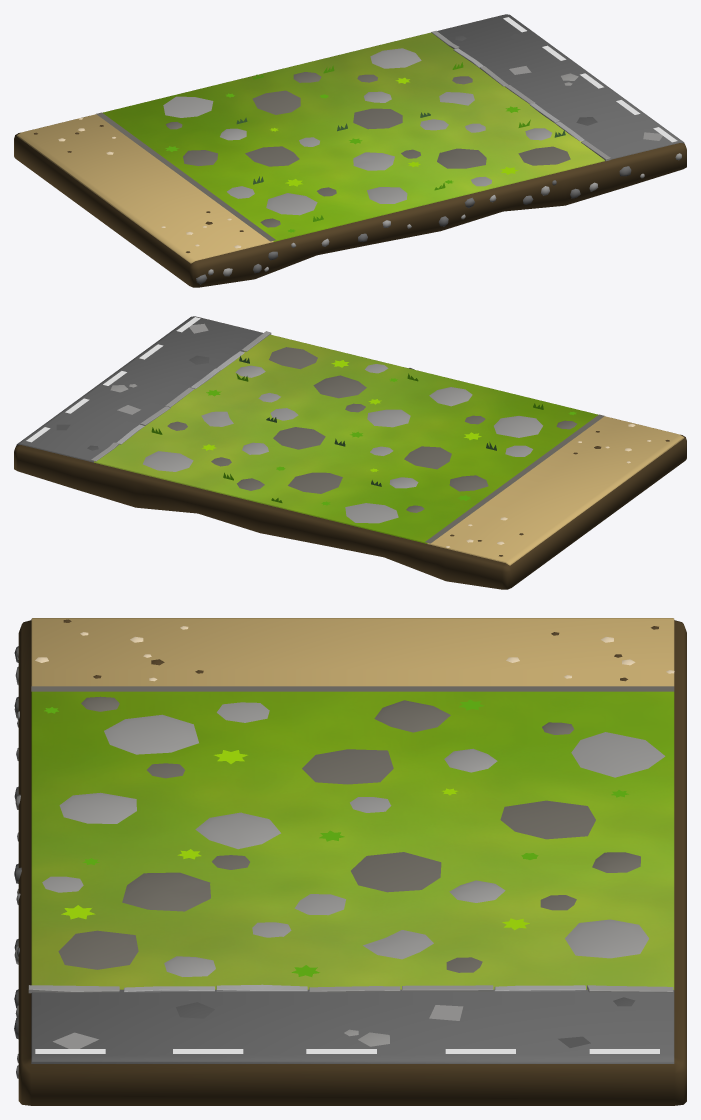
Rendered from Ground.fbx.
The picture shows the model from 3 angles, top to bottom: view 1: azimuth 30°, elevation 25°; view 2: azimuth 150°, elevation 25°; view 3: azimuth 270°, elevation 25°; orthographic projection. The views are drawn at different scales.
Parts seen in each view (by area): view 1: Ground; view 2: Ground; view 3: Ground.
Part boxes in pixels (<box>): Ground: <box>14,14,686,287</box>; Ground: <box>14,316,686,589</box>; Ground: <box>14,618,686,1105</box>.
Size of the model in its own units: 1363 by 105 by 868.
Materials: 2 (2 with a texture image).
